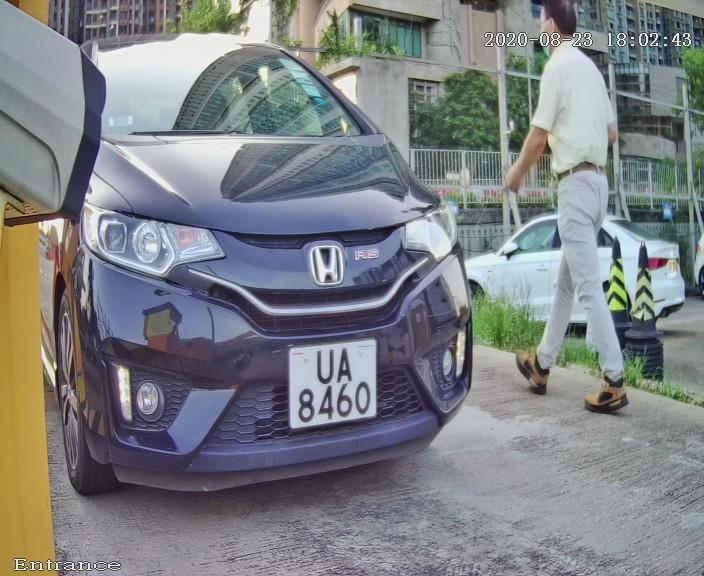Car: (16, 1, 503, 541)
License Plate: (254, 314, 403, 459)
